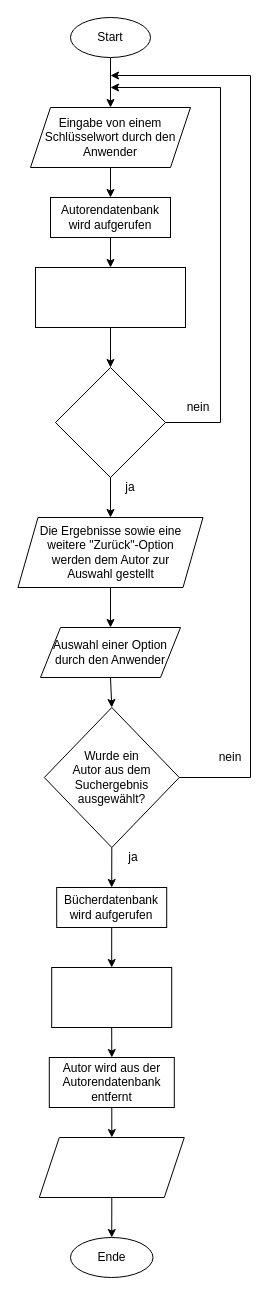
Image size: 276x1295. Some labels were removed from this diagram. Each missing label, with the centre of its shape:
Alle Bücher mit ausgewähltem Autor werden aus der Datenbank entfernt: point 111,997
Anwneder wird über erfolgreiche Löschung informiert: point 111,1167
Das eingegebene Schlüsselwort wird in der Autorendatenbank durchsucht: point 110,297
Gibt es mind. ein Such- ergebnis?: point 110,422
